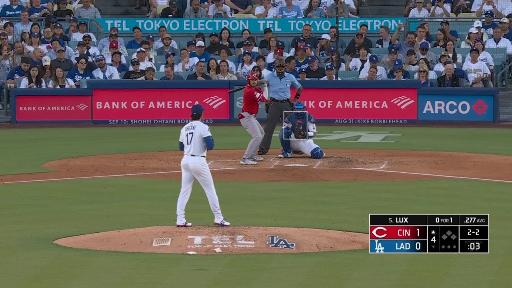pitcher: (176, 103, 232, 226)
